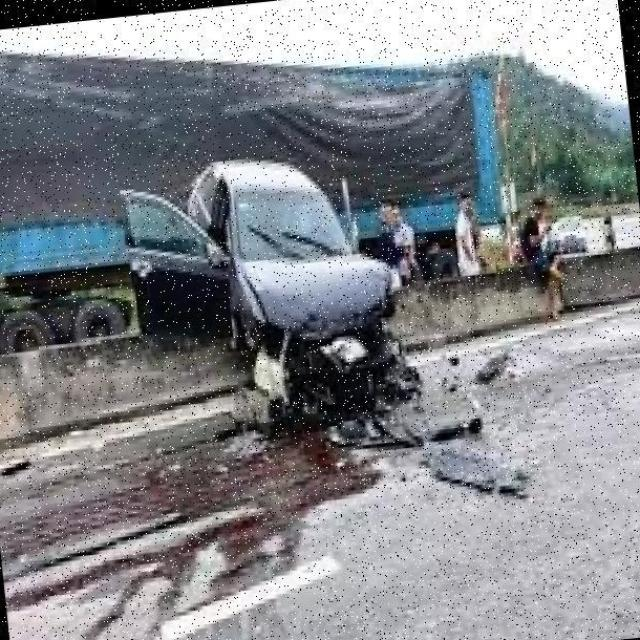accident: (101, 99, 473, 495)
